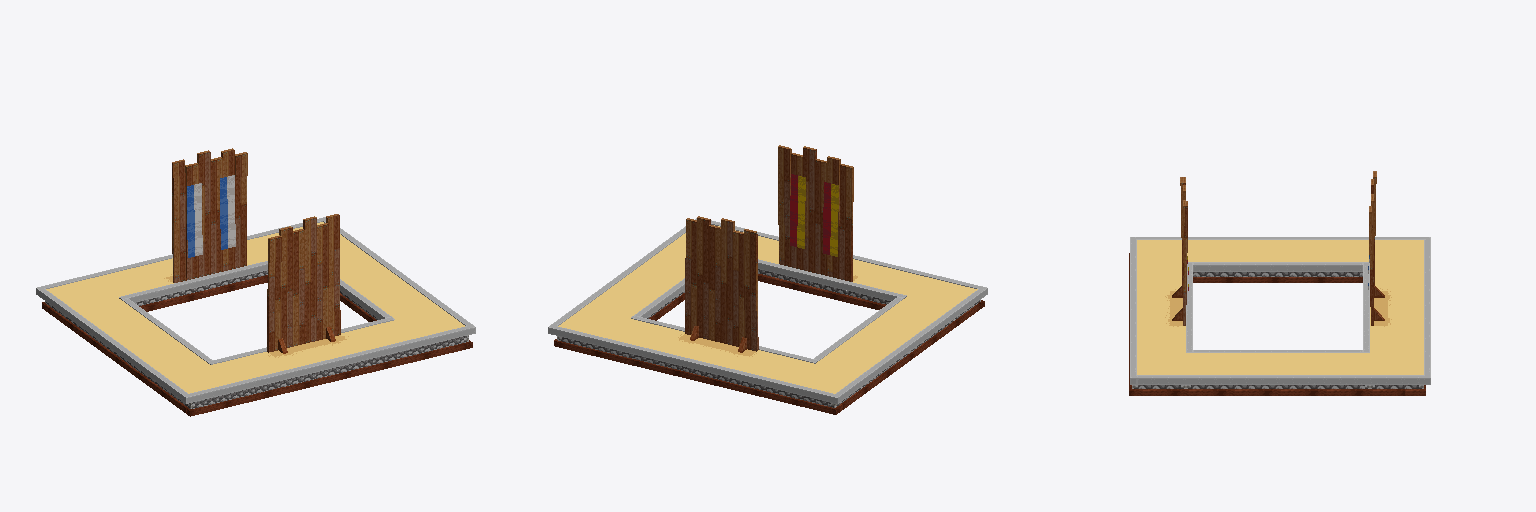
3 renders of one model, left to right at view 1: azimuth 30°, elevation 25°; view 2: azimuth 150°, elevation 25°; view 3: azimuth 270°, elevation 25°, orthographic.
Visible parts, largest first — view 1: cuboid, plane; view 2: cuboid, plane; view 3: cuboid.
Boxes of the visible parts, box(x1,y1,x2,y2) form: cuboid: box(36, 148, 475, 416); plane: box(187, 175, 235, 257); cuboid: box(548, 145, 987, 414); plane: box(790, 174, 838, 256); cuboid: box(1129, 171, 1430, 395).
Bounding box in the file's own units: 24.12 × 11.31 × 21.72.
Materials: 1 (1 with a texture image).